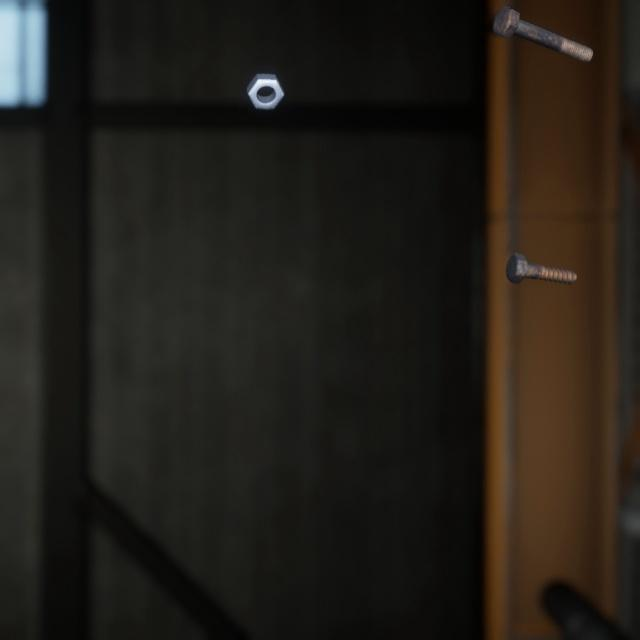bolt: (488, 0, 597, 58), (501, 231, 581, 272)
nut: (242, 57, 288, 101)
